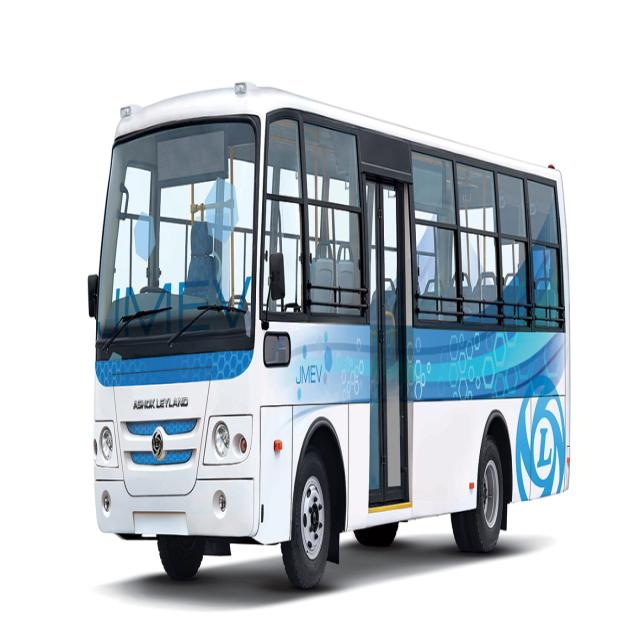bus: (88, 82, 570, 588)
